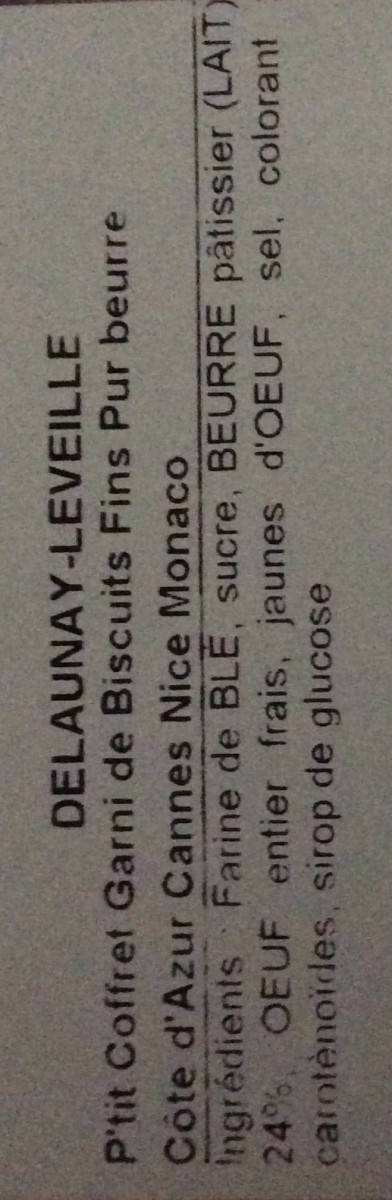ingredients: (201, 4, 380, 1184)
